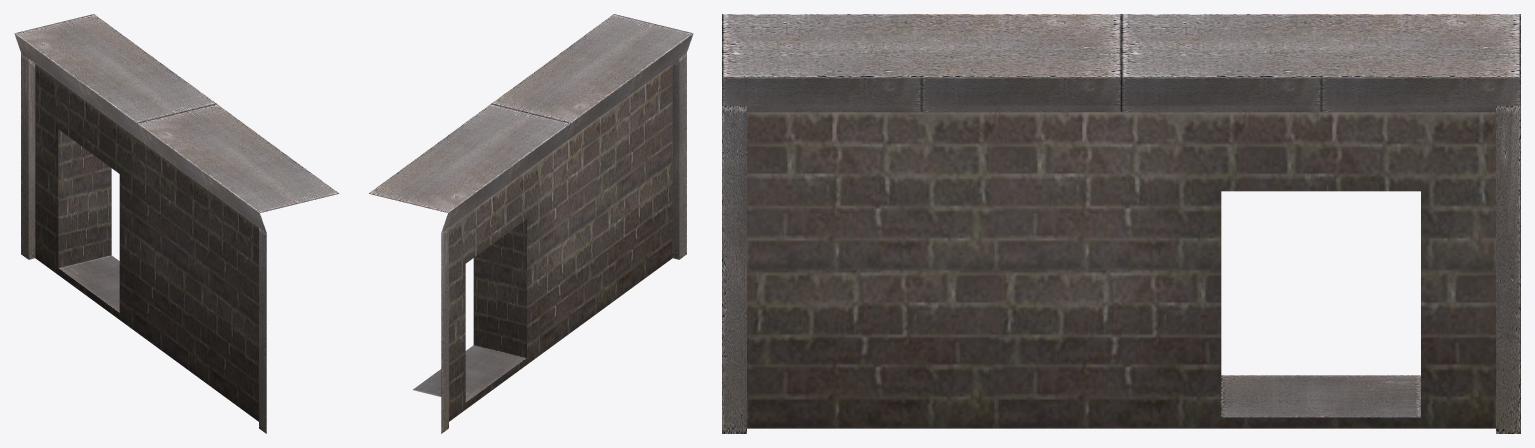
File: M10_Zone2_Wall_SideEntrance.glb
3 renders of one model, left to right at view 1: azimuth 30°, elevation 25°; view 2: azimuth 150°, elevation 25°; view 3: azimuth 270°, elevation 25°, orthographic. The views are drawn at different scales.
Parts seen in each view (by area): view 1: M10_ZONE2_WALL_SIDEENTRANCE; view 2: M10_ZONE2_WALL_SIDEENTRANCE; view 3: M10_ZONE2_WALL_SIDEENTRANCE.
Boxes of the visible parts, left/top/right/bottom form: M10_ZONE2_WALL_SIDEENTRANCE: left=14, top=14, right=338, bottom=433; M10_ZONE2_WALL_SIDEENTRANCE: left=369, top=14, right=693, bottom=433; M10_ZONE2_WALL_SIDEENTRANCE: left=722, top=14, right=1520, bottom=433.
Size of the model in its own units: 1.5 by 4 by 8.
2 materials, 2 textured.
